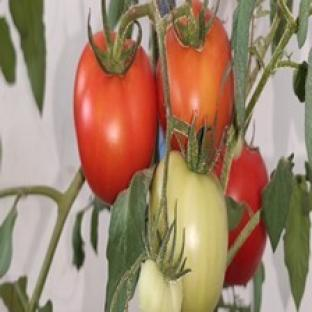Tomato: (74, 45, 157, 203), (168, 152, 228, 311), (166, 17, 233, 146), (226, 145, 268, 213), (138, 260, 182, 311)
